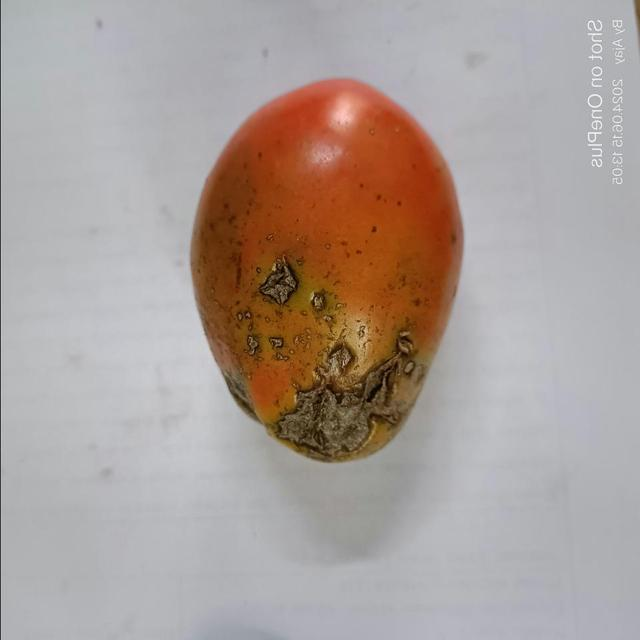Bacterial Spot Fruit: (4, 8, 270, 299)
